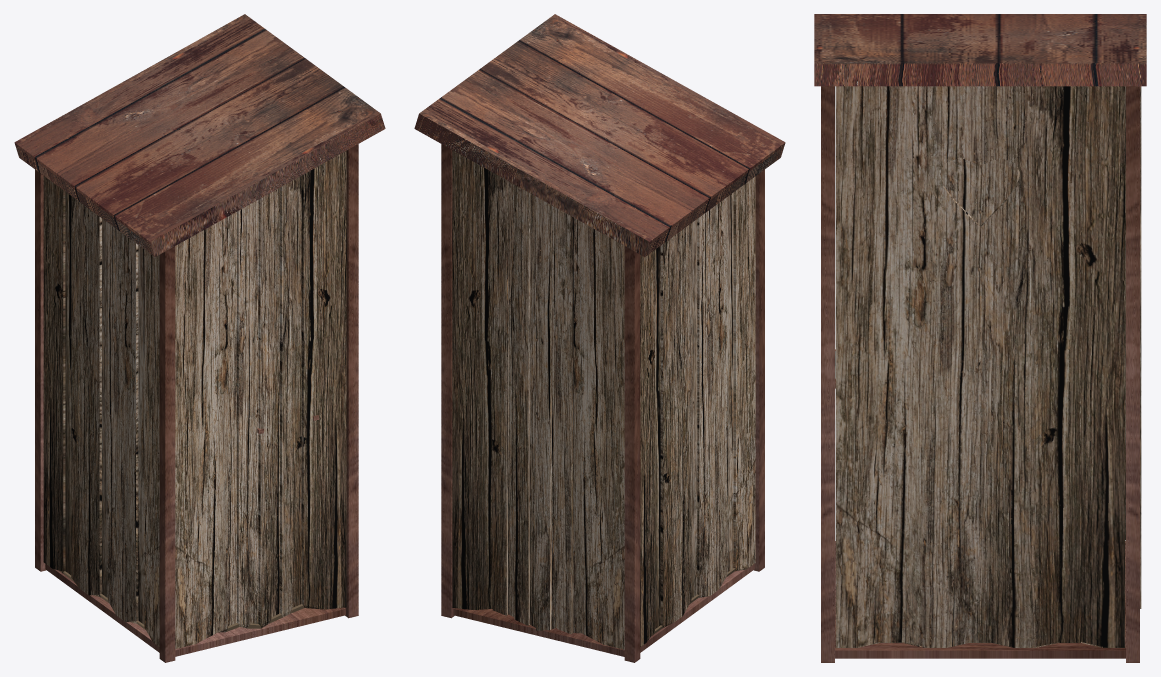
The model's file is Toilet.fbx.
3 views of the same model, side by side, from view 1: azimuth 30°, elevation 25°; view 2: azimuth 150°, elevation 25°; view 3: azimuth 270°, elevation 25° (orthographic). The views are drawn at different scales.
Parts seen in each view (by area): view 1: Plane, Plane.004, Cube.002, Cube.001, Plane.003; view 2: Plane, Plane.004, Cube.002, Cube.001, Plane.003; view 3: Plane.002, Plane.004, Cube.001, Plane, Plane.003.
Part boxes in pixels (bbox=[...]): Plane: bbox=[43, 150, 346, 648]; Plane.004: bbox=[14, 14, 385, 256]; Cube.002: bbox=[35, 169, 175, 662]; Cube.001: bbox=[345, 144, 358, 618]; Plane.003: bbox=[45, 564, 345, 656]; Plane: bbox=[452, 150, 755, 649]; Plane.004: bbox=[414, 14, 785, 256]; Cube.002: bbox=[624, 169, 764, 662]; Cube.001: bbox=[441, 144, 454, 618]; Plane.003: bbox=[453, 564, 754, 656]; Plane.002: bbox=[835, 86, 1125, 647]; Plane.004: bbox=[814, 14, 1146, 86]; Cube.001: bbox=[821, 86, 1139, 662]; Plane: bbox=[940, 86, 1141, 608]; Plane.003: bbox=[835, 541, 1125, 658].
Bounding box in the file's own units: 73.04 × 148 × 73.1.
